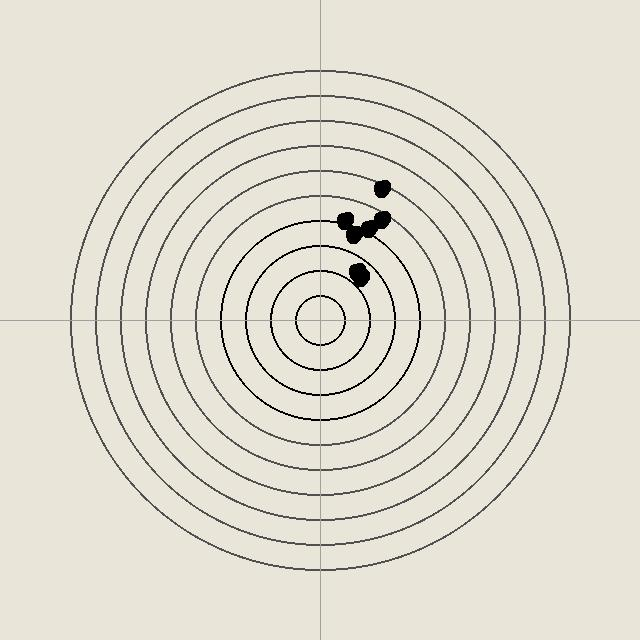good_group: (371, 209, 391, 229), (371, 178, 391, 198), (358, 218, 378, 238), (343, 224, 363, 244), (346, 261, 366, 281), (334, 210, 354, 230), (350, 267, 370, 287)
